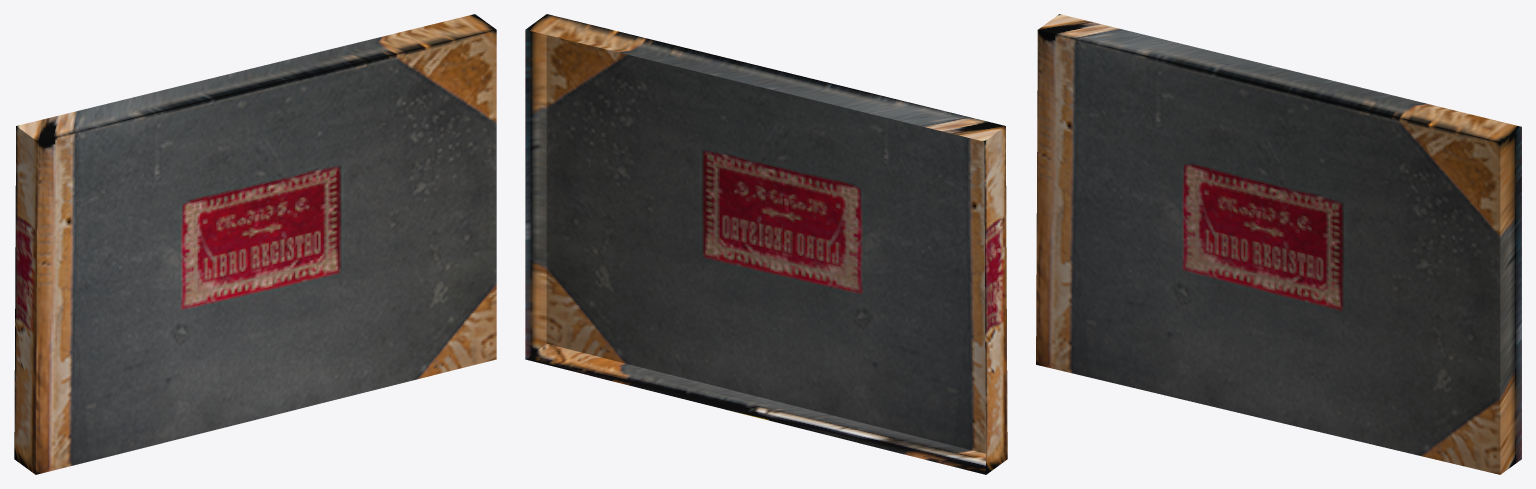
File: libro_02.FBX
The picture shows the model from 3 angles, left to right: view 1: azimuth 30°, elevation 25°; view 2: azimuth 150°, elevation 25°; view 3: azimuth 330°, elevation 25°; orthographic projection.
Parts seen in each view (by area): view 1: libro_02; view 2: libro_02; view 3: libro_02.
Boxes of the visible parts, box(x1,y1,x2,y2) form: libro_02: box(14, 14, 496, 474); libro_02: box(525, 14, 1007, 474); libro_02: box(1036, 14, 1521, 474).
Size of the model in its own units: 88.75 by 61.25 by 7.16.
